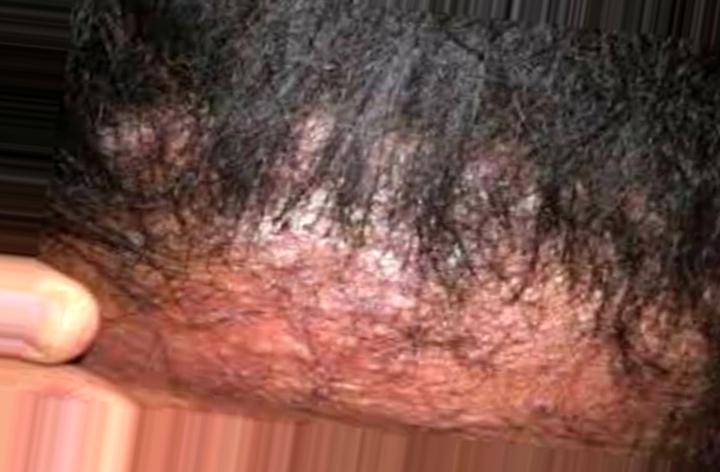Folliculitis: (95, 166, 595, 386)
